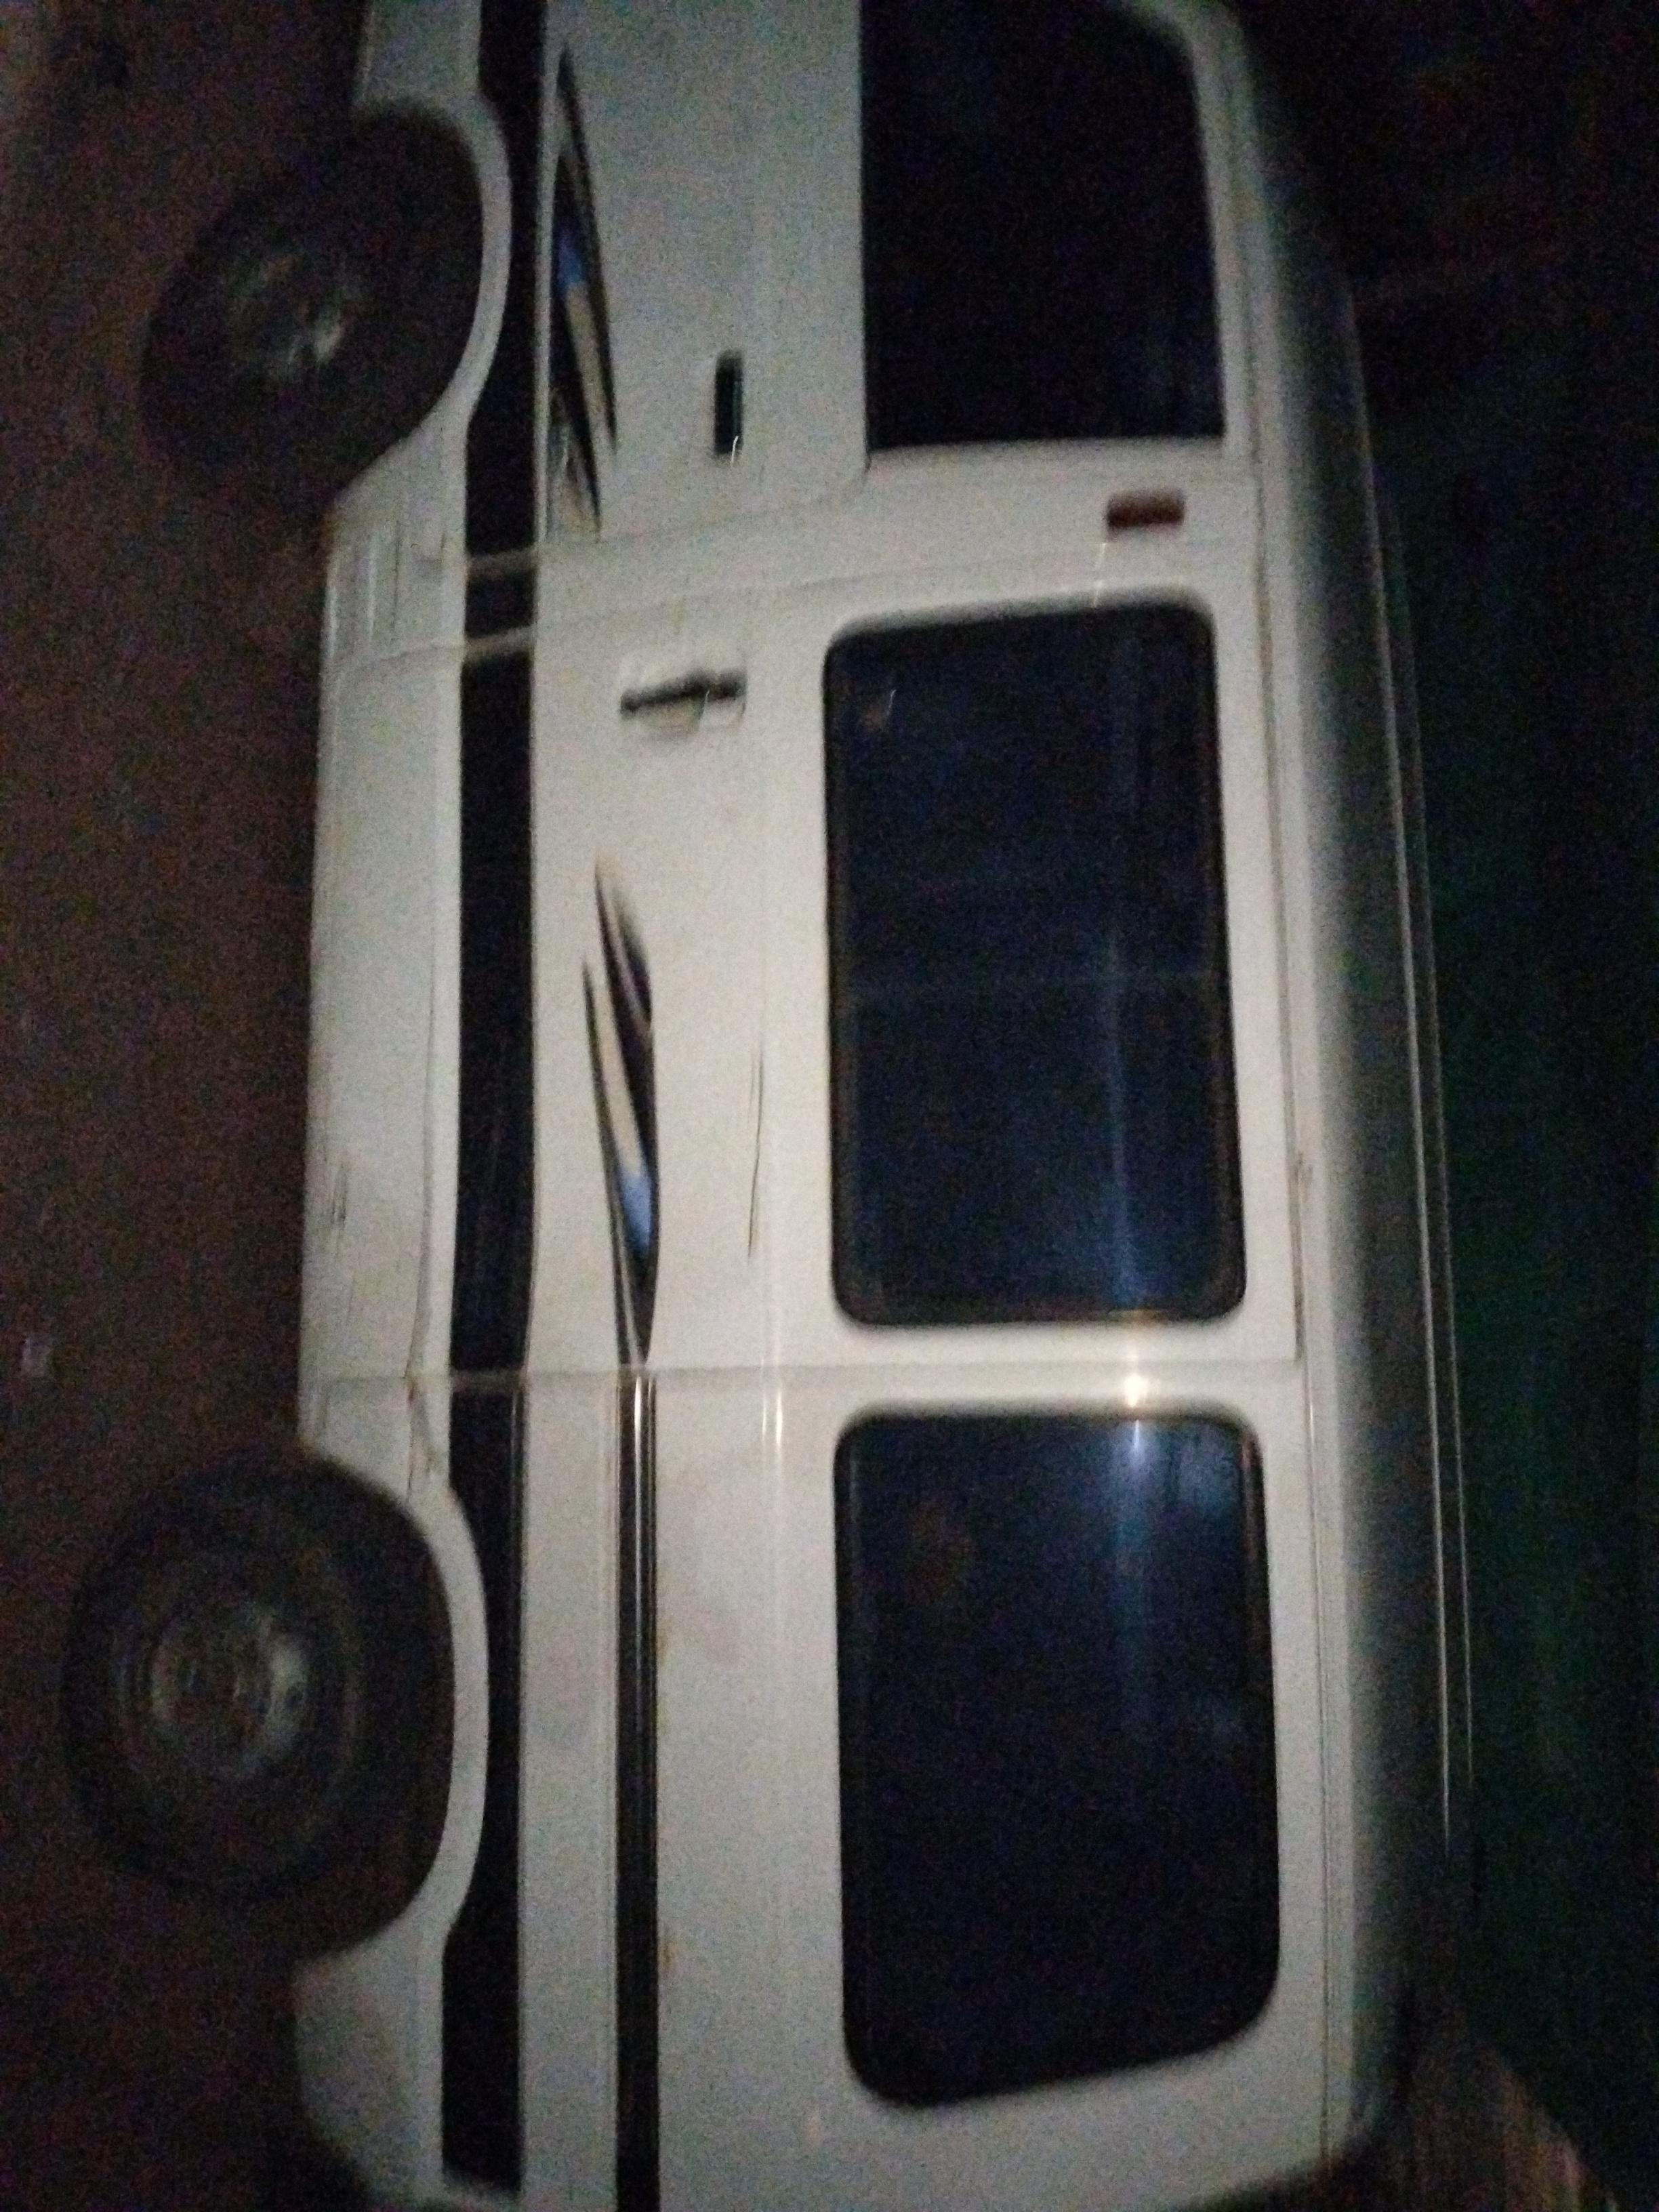Auto: (92, 10, 1558, 2212)
